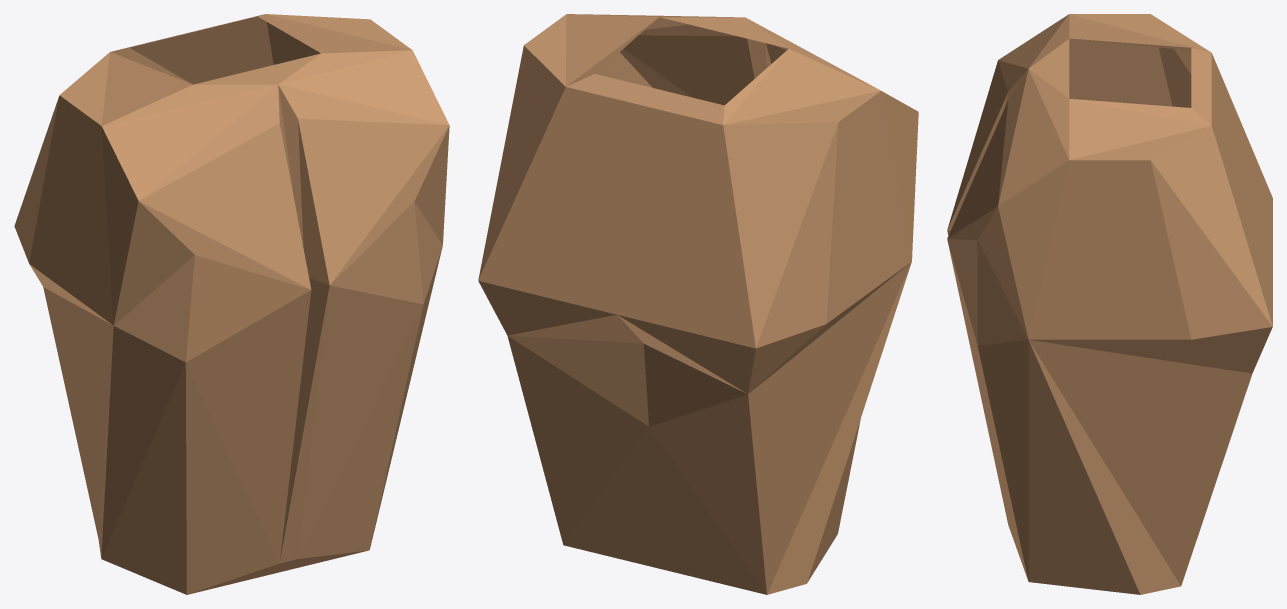
Rendered from npc_world_tribesman_3.obj.
3 views of the same model, side by side, from view 1: azimuth 30°, elevation 25°; view 2: azimuth 150°, elevation 25°; view 3: azimuth 270°, elevation 25° (orthographic). The views are drawn at different scales.
Size of the model in its own units: 0.2812 by 0.3984 by 0.25.
